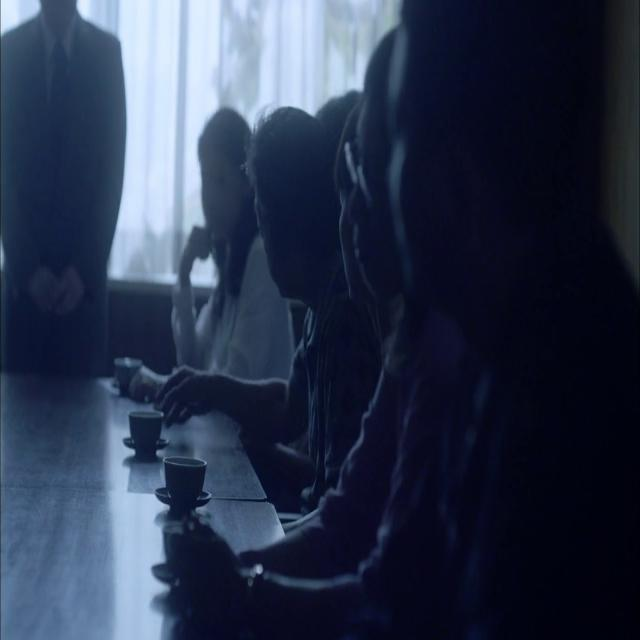Cup: (152, 441, 216, 525), (123, 400, 166, 474), (118, 347, 140, 401)
People: (379, 0, 603, 626), (0, 4, 131, 359), (247, 89, 333, 481), (317, 32, 389, 448), (179, 93, 257, 385)
Table: (0, 358, 270, 640)
